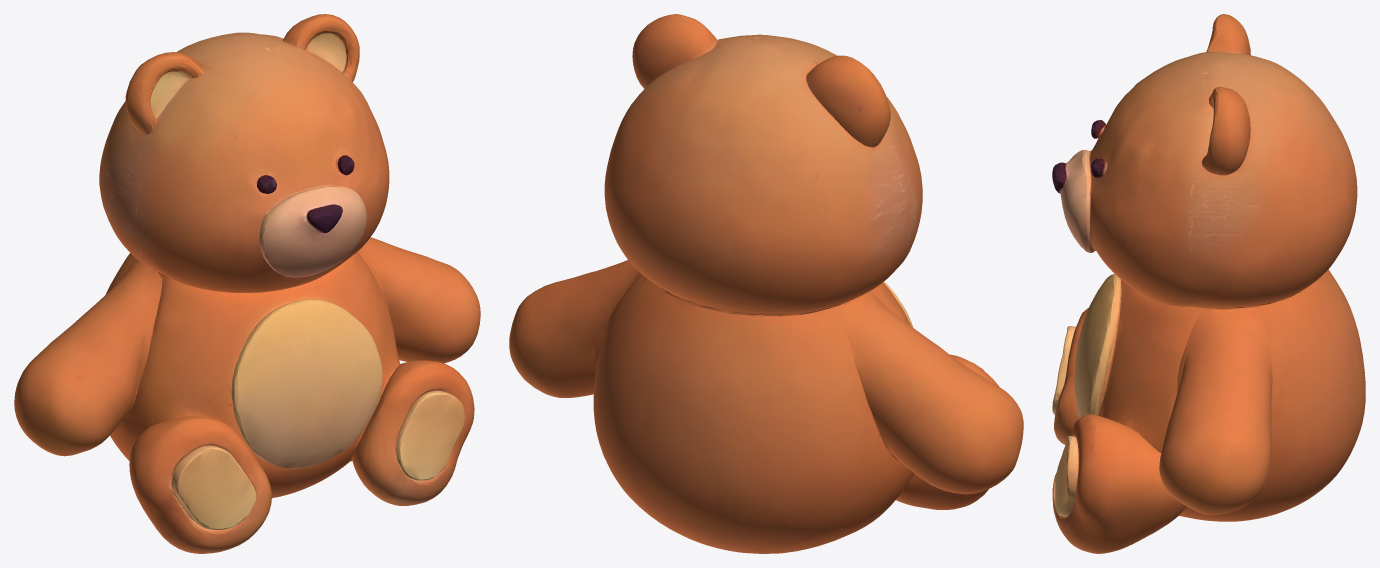
The model's file is teddy_bear.glb.
3 views of the same model, side by side, from view 1: azimuth 30°, elevation 25°; view 2: azimuth 150°, elevation 25°; view 3: azimuth 270°, elevation 25° (orthographic). The views are drawn at different scales.
Parts seen in each view (by area): view 1: model; view 2: model; view 3: model.
Boxes of the visible parts, bbox=[...] form: model: bbox=[14, 14, 480, 553]; model: bbox=[509, 14, 1023, 553]; model: bbox=[1052, 14, 1365, 553].
Bounding box in the file's own units: 1 × 0.9512 × 0.6034.
1 material, 1 textured.
